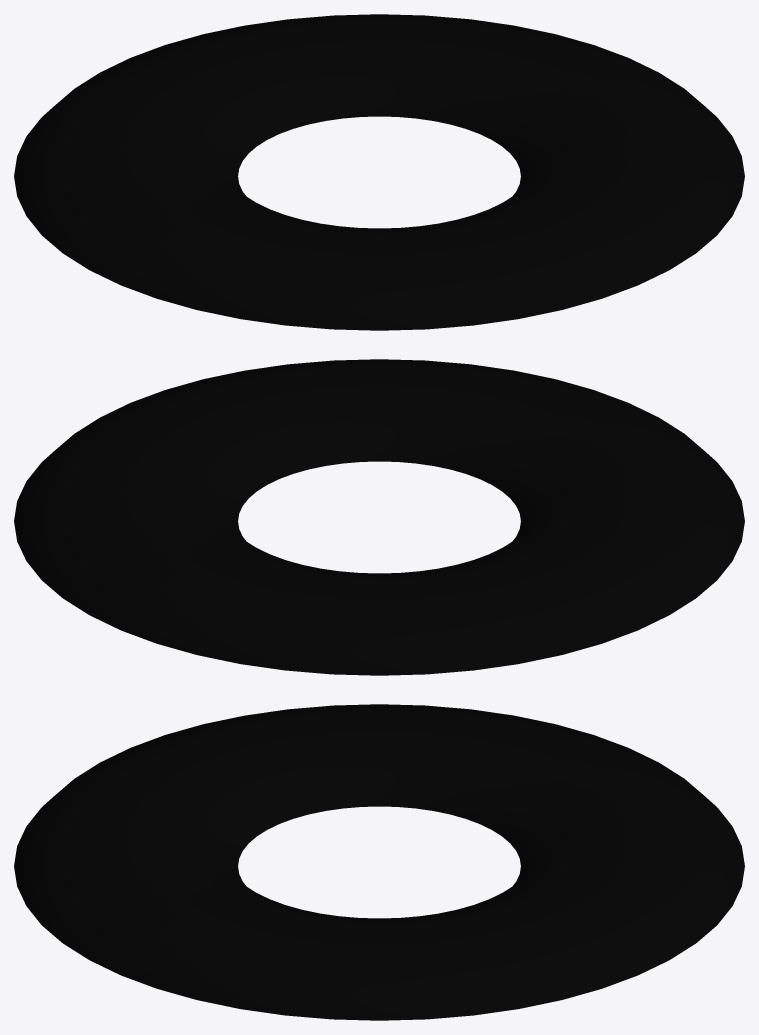
The model's file is wave.glb.
The picture shows the model from 3 angles, top to bottom: view 1: azimuth 30°, elevation 25°; view 2: azimuth 150°, elevation 25°; view 3: azimuth 270°, elevation 25°; orthographic projection.
Parts seen in each view (by area): view 1: Torus; view 2: Torus; view 3: Torus.
Boxes of the visible parts, x1,y1,x2,y2 form: Torus: [14, 14, 744, 330]; Torus: [14, 359, 744, 675]; Torus: [14, 704, 744, 1020].
Size of the model in its own units: 2.02 by 0.0858 by 2.02.
Materials: 1 (1 with a texture image).
